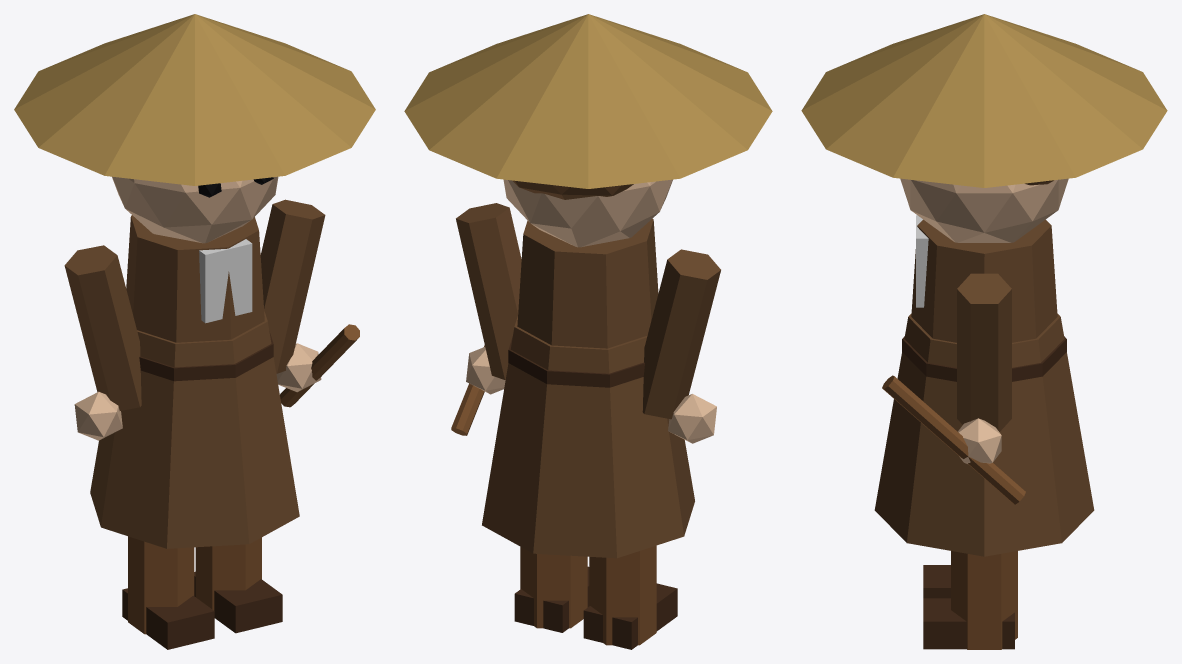
File: SM_GZ_npc_stable_master.fbx
3 views of the same model, side by side, from view 1: azimuth 30°, elevation 25°; view 2: azimuth 150°, elevation 25°; view 3: azimuth 270°, elevation 25° (orthographic).
Visible parts, largest first — view 1: SM_GZ_npc_stable_master; view 2: SM_GZ_npc_stable_master; view 3: SM_GZ_npc_stable_master.
Part boxes in pixels (x1,y1,x2,y2): SM_GZ_npc_stable_master: (14,14,375,649); SM_GZ_npc_stable_master: (404,14,772,649); SM_GZ_npc_stable_master: (801,14,1167,649).
Size of the model in its own units: 120 by 219 by 120.
